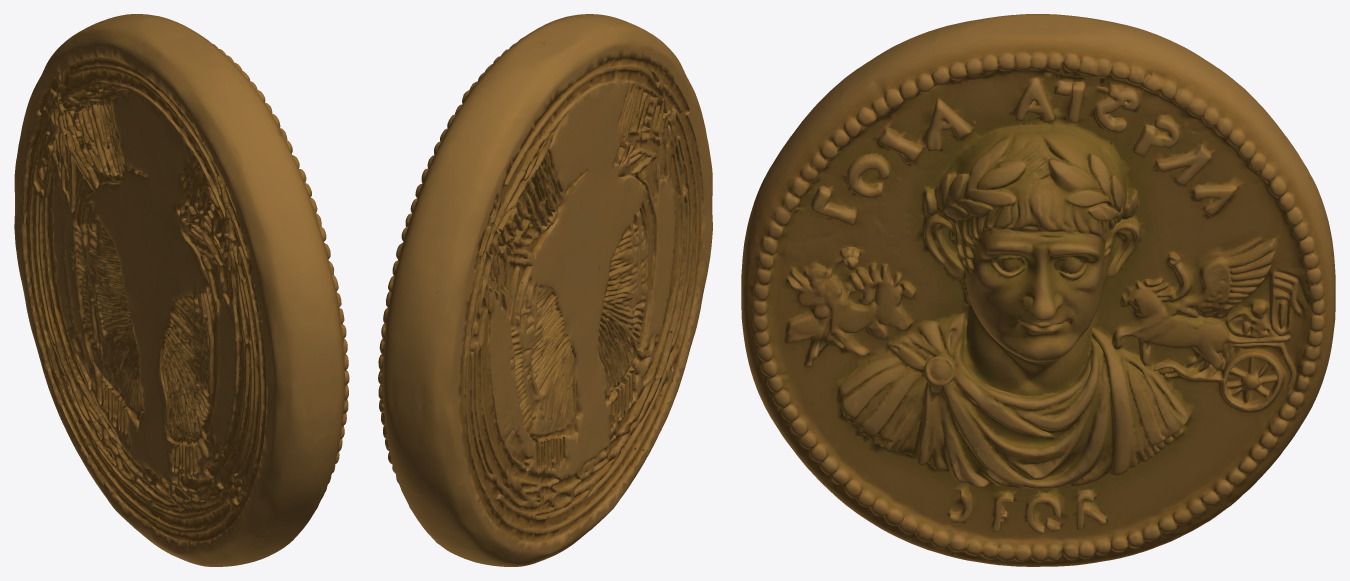
The model's file is coin_to_catch.glb.
3 views of the same model, side by side, from view 1: azimuth 30°, elevation 25°; view 2: azimuth 150°, elevation 25°; view 3: azimuth 270°, elevation 25° (orthographic). The views are drawn at different scales.
Visible parts, largest first — view 1: tripo_node_0e886c41-7fc5-462f-b68d-15b29ce98e94; view 2: tripo_node_0e886c41-7fc5-462f-b68d-15b29ce98e94; view 3: tripo_node_0e886c41-7fc5-462f-b68d-15b29ce98e94.
Part boxes in pixels (left/top/right/bottom): tripo_node_0e886c41-7fc5-462f-b68d-15b29ce98e94: left=14, top=14, right=349, bottom=566; tripo_node_0e886c41-7fc5-462f-b68d-15b29ce98e94: left=378, top=14, right=712, bottom=566; tripo_node_0e886c41-7fc5-462f-b68d-15b29ce98e94: left=741, top=14, right=1335, bottom=566.
Bounding box in the file's own units: 0.3076 × 0.9875 × 1.
1 material, 1 textured.
